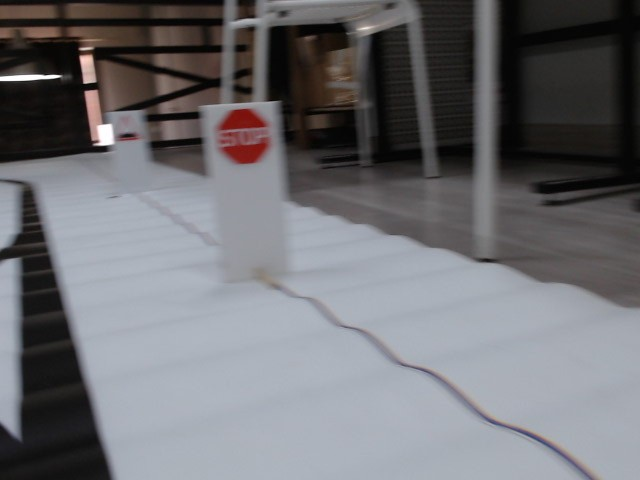Nerov: (112, 114, 143, 143)
Stop: (217, 108, 272, 163)
